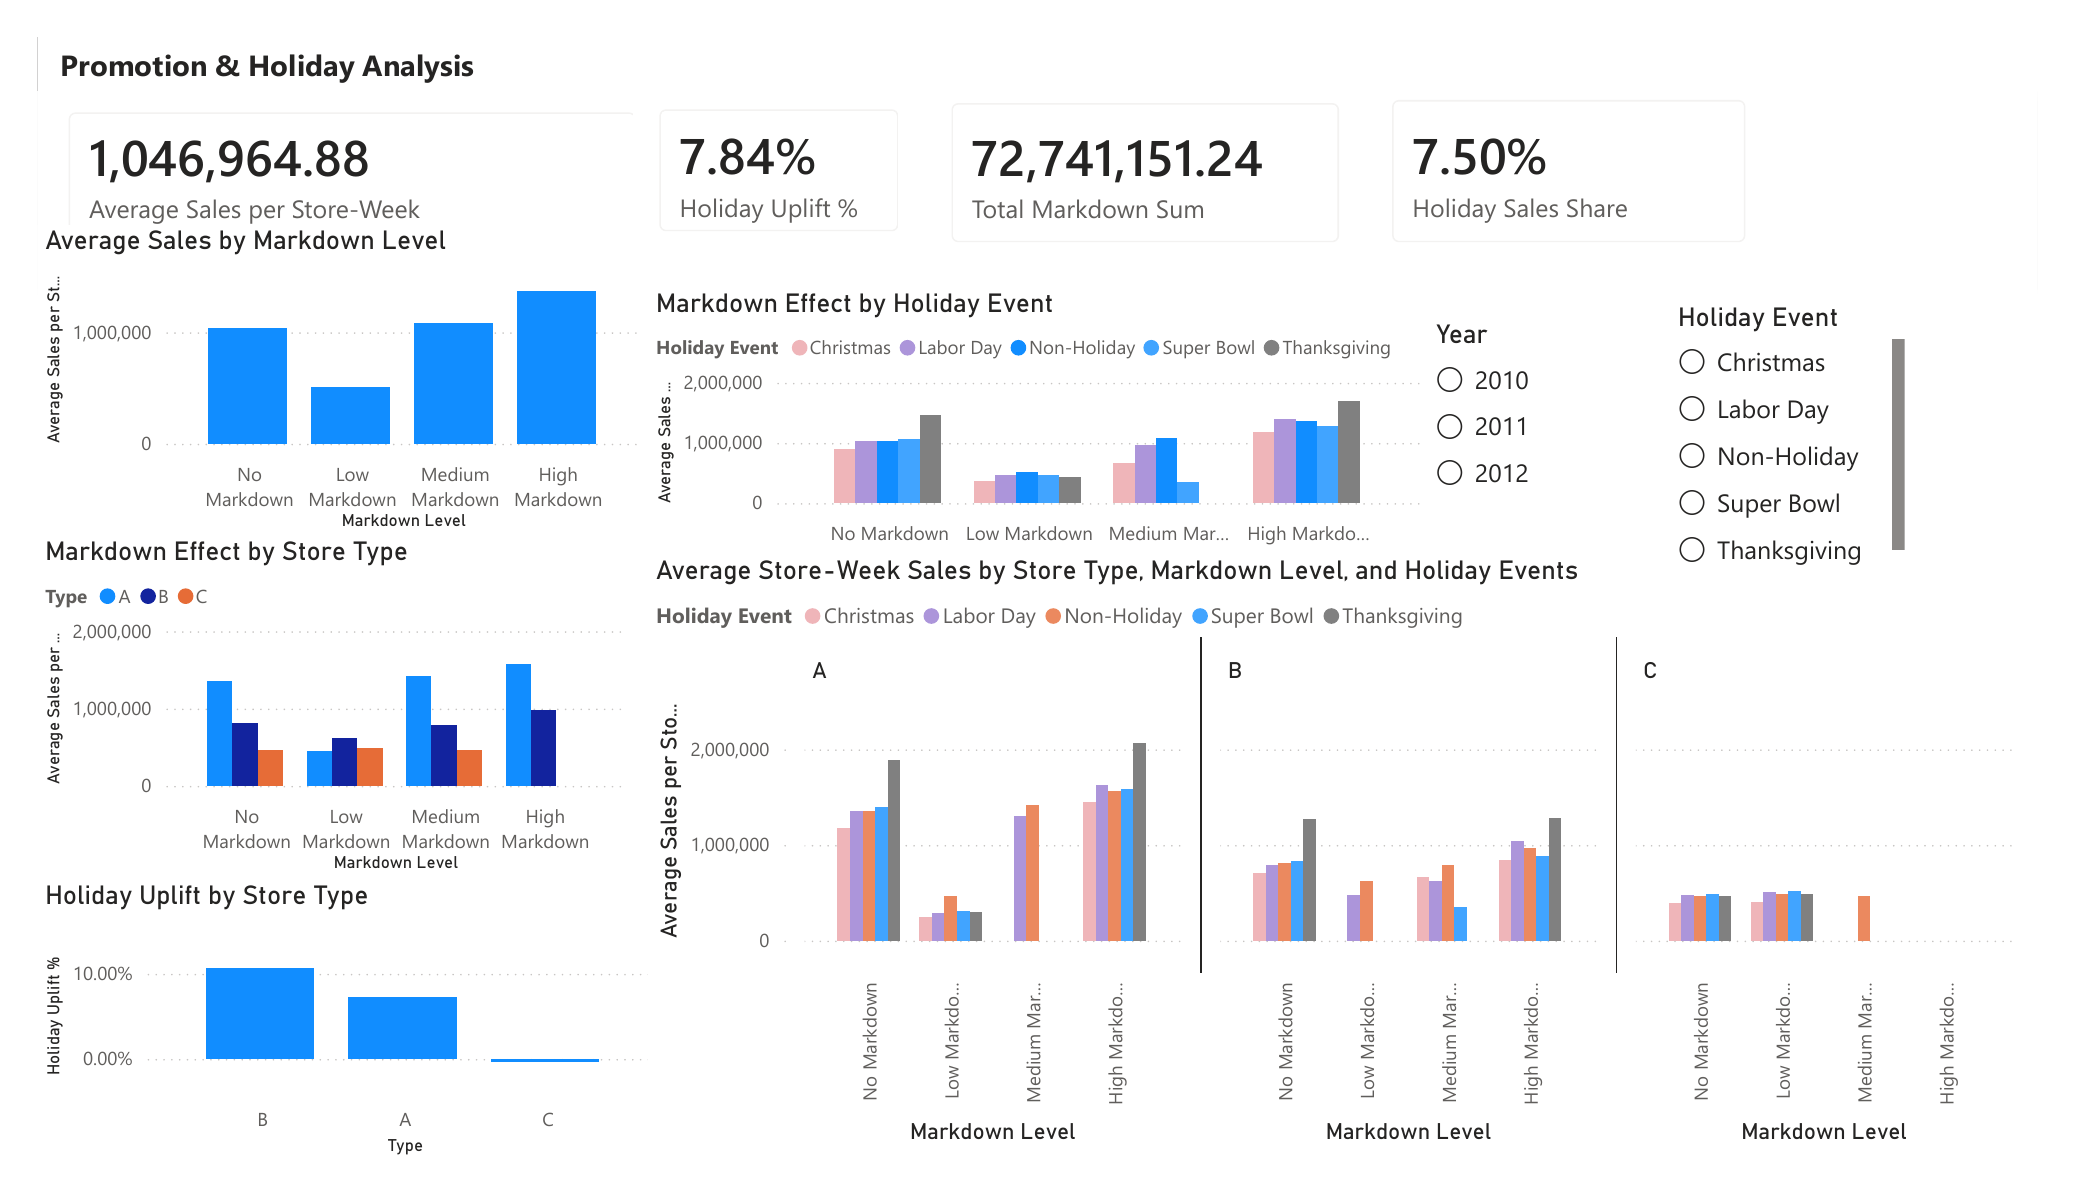

Layout of this report page (visuals, bound fields, positions):
{"tool":"powerbi","page":{"name":"Page 2","canvas":[1280,720],"ordinal":1},"visuals":[{"type":"textbox","box":[10,0,397.5,37.5],"z":0},{"type":"cardVisual","fields":{"Data":["features.Average Sales per Store-Week"]},"box":[2.5,31.2,397.5,110],"z":1000},{"type":"cardVisual","fields":{"Data":["features.Holiday Uplift %"]},"box":[381.2,28.8,186.2,112.5],"z":2000},{"type":"clusteredColumnChart","title":"Average Sales by Markdown Level","fields":{"Y":["features.Average Sales per Store-Week"],"Category":["features.Markdown Level"]},"box":[0,120,391.2,200],"z":3000},{"type":"clusteredColumnChart","title":"Markdown Effect by Holiday Event","fields":{"Y":["features.Average Sales per Store-Week"],"Series":["train.Holiday Event"],"Category":["features.Markdown Level"]},"box":[391.2,160,498.8,172.5],"z":4000},{"type":"cardVisual","fields":{"Data":["features.Total Markdown Sum"]},"box":[567.5,25,282.5,122.5],"z":5000},{"type":"cardVisual","fields":{"Data":["features.Holiday Sales Share"]},"box":[850,22.5,260,125],"z":6000},{"type":"clusteredColumnChart","title":"Markdown Effect by Store Type","fields":{"Y":["features.Average Sales per Store-Week"],"Series":["stores.Type"],"Category":["features.Markdown Level"]},"box":[0,318.8,381.2,220],"z":7000},{"type":"clusteredColumnChart","title":"Holiday Uplift by Store Type","fields":{"Category":["stores.Type"],"Y":["features.Holiday Uplift %"]},"box":[0,538.8,405,181.2],"z":8000},{"type":"listSlicer","fields":{"Values":["features.Year"]},"box":[890,180,155,127.5],"z":9000},{"type":"clusteredColumnChart","title":"Average Store-Week Sales by Store Type, Markdown Level, and Holiday Events","fields":{"Category":["features.Markdown Level"],"Y":["features.Average Sales per Store-Week"],"Series":["train.Holiday Event"],"Rows":["stores.Type"]},"box":[391.2,331.2,890,382.5],"z":10000},{"type":"listSlicer","fields":{"Values":["train.Holiday Event"]},"box":[1045,168.8,155,176.2],"z":11000}]}

Visuals, with their boxes on the page's 1280x720 design canvas (x1, y1, x2, y2). These are canvas units, not pixel positions in the 2075x1200 screenshot, which may show the page scaled, cropped or inside an application window:
textbox: [10,0,408,38]
cardVisual - features.Average Sales per Store-Week: [2,31,400,141]
cardVisual - features.Holiday Uplift %: [381,29,567,141]
"Average Sales by Markdown Level" clusteredColumnChart: [0,120,391,320]
"Markdown Effect by Holiday Event" clusteredColumnChart: [391,160,890,332]
cardVisual - features.Total Markdown Sum: [568,25,850,148]
cardVisual - features.Holiday Sales Share: [850,22,1110,148]
"Markdown Effect by Store Type" clusteredColumnChart: [0,319,381,539]
"Holiday Uplift by Store Type" clusteredColumnChart: [0,539,405,720]
listSlicer - features.Year: [890,180,1045,308]
"Average Store-Week Sales by Store Type, Markdown Level, and Holiday Events" clusteredColumnChart: [391,331,1281,714]
listSlicer - train.Holiday Event: [1045,169,1200,345]
